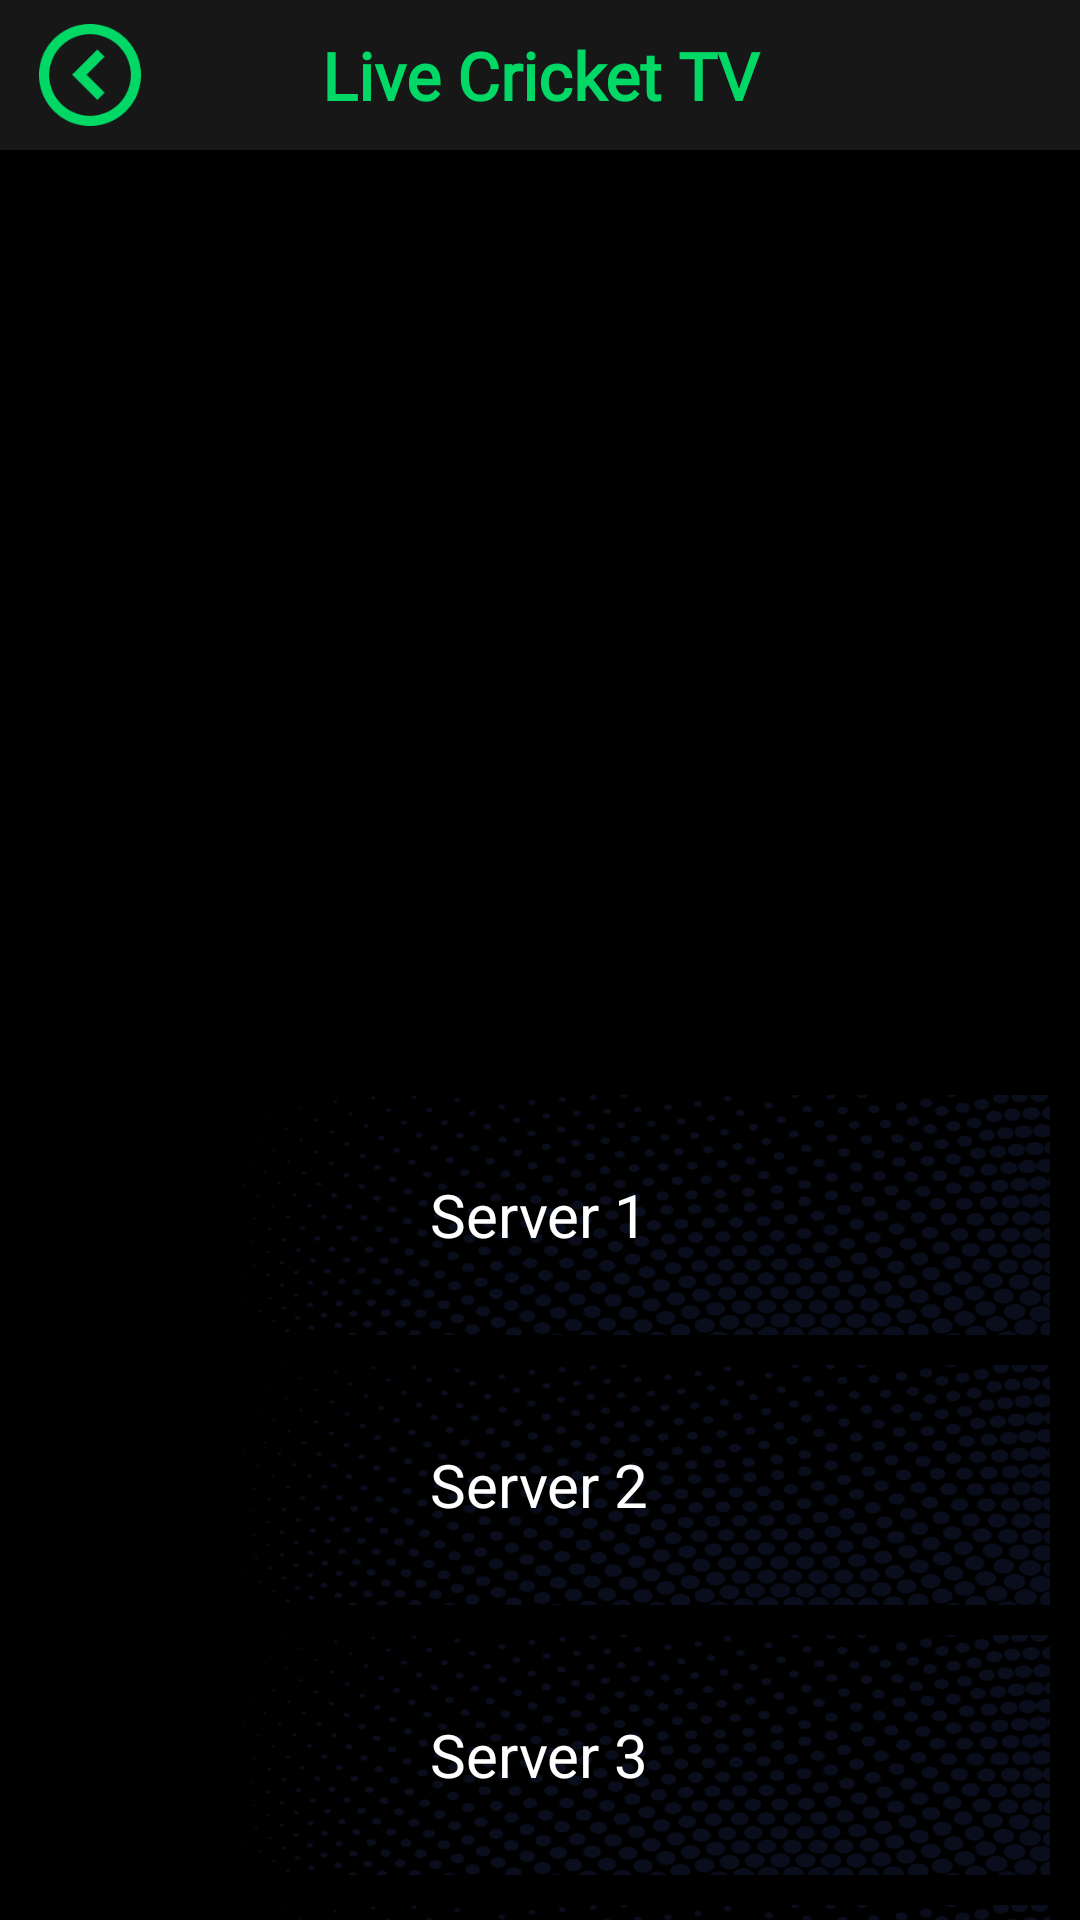

Where to tap for icons on this 1080 x 1920 app screen, as [x,y]:
back: [90,75]
